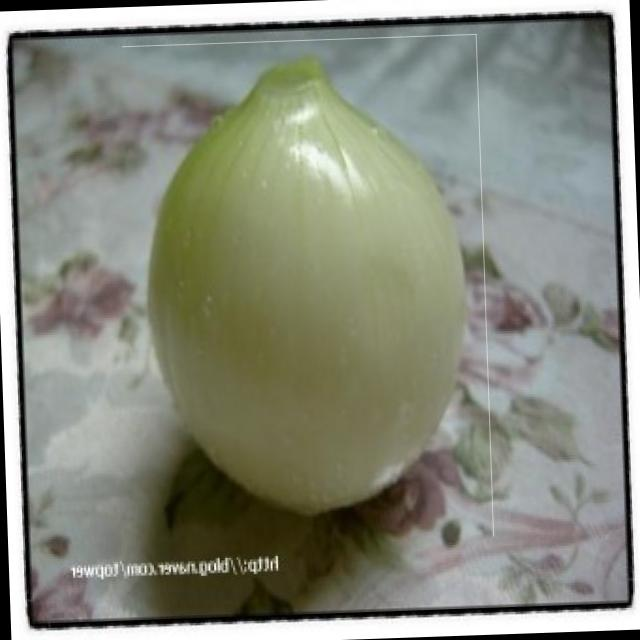Onion: (121, 34, 494, 548)
